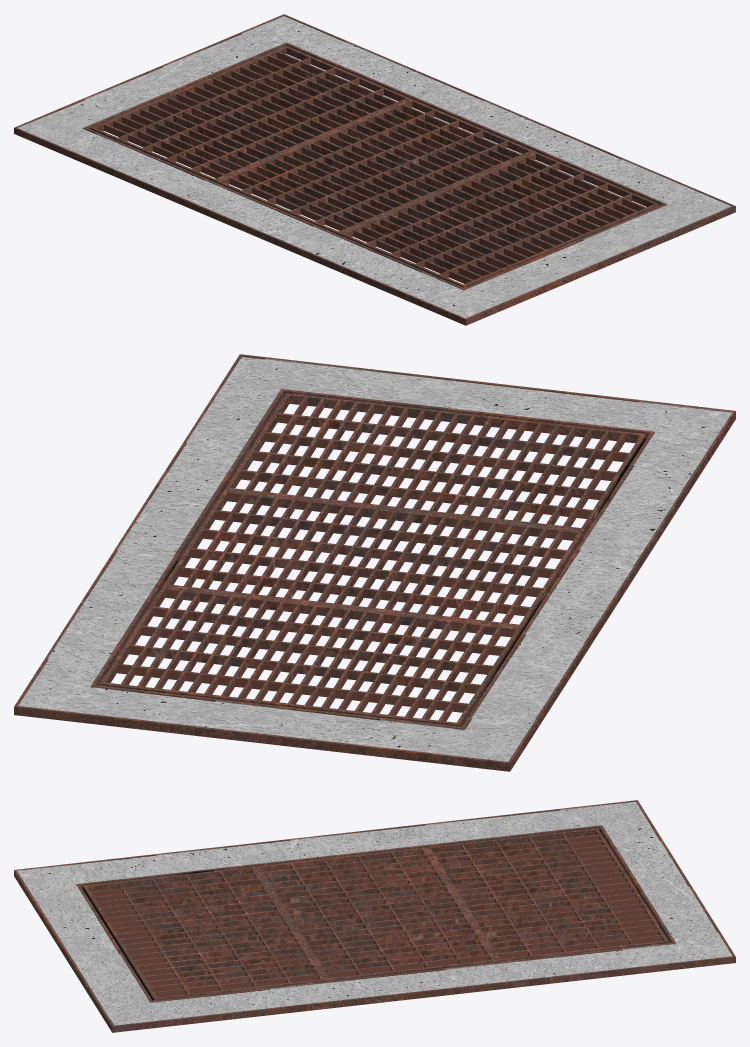
The model's file is trench1.glb.
3 views of the same model, one above another, from view 1: azimuth 30°, elevation 25°; view 2: azimuth 150°, elevation 25°; view 3: azimuth 270°, elevation 25° (orthographic). The views are drawn at different scales.
Visible parts, largest first — view 1: Grate_Grate_shader_0; view 2: Grate_Grate_shader_0; view 3: Grate_Grate_shader_0.
Boxes of the visible parts, <box> form: Grate_Grate_shader_0: <box>14,14,735,325</box>; Grate_Grate_shader_0: <box>14,354,735,771</box>; Grate_Grate_shader_0: <box>14,800,735,1032</box>.
Bounding box in the file's own units: 2.02 × 0.0266 × 2.73.
Materials: 1 (1 with a texture image).
